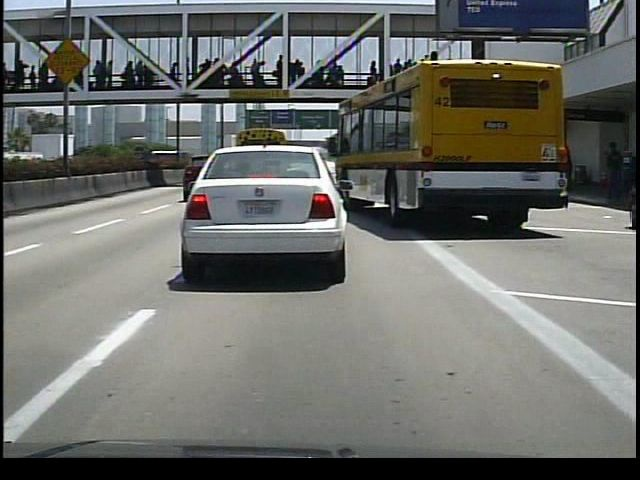person: (602, 141, 630, 206)
